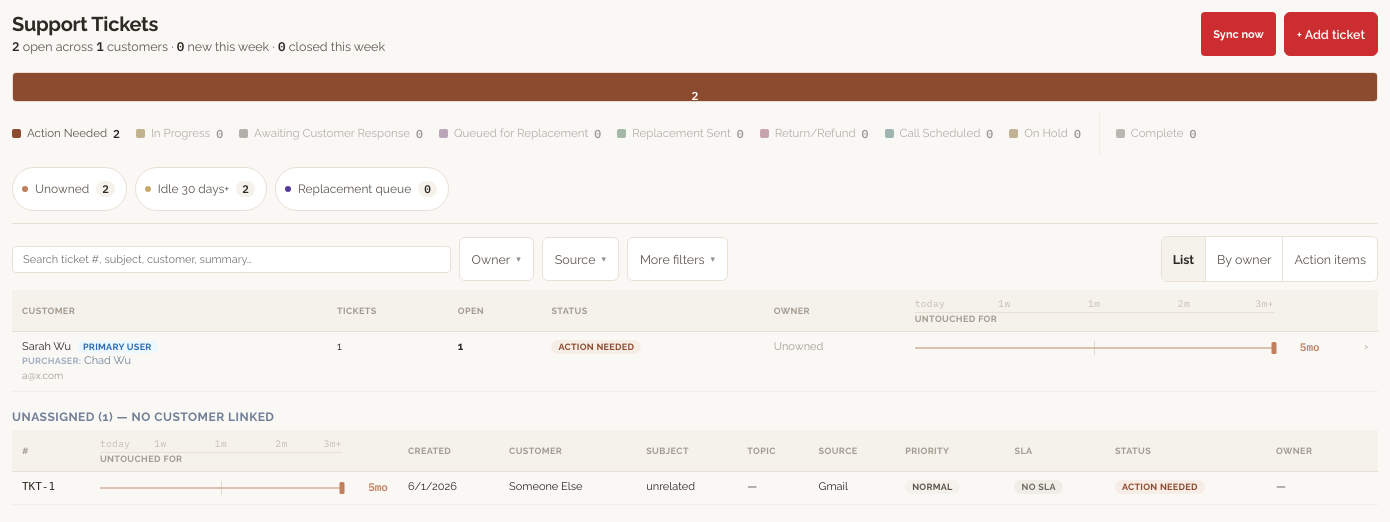
SupportTab — purchaser vs primary user › still finds the ticket when searching the purchaser
The width and height of the screenshot is (1390, 522).
In the field named "search tickets": [231, 259] box [12,246,451,272], type "Chad"
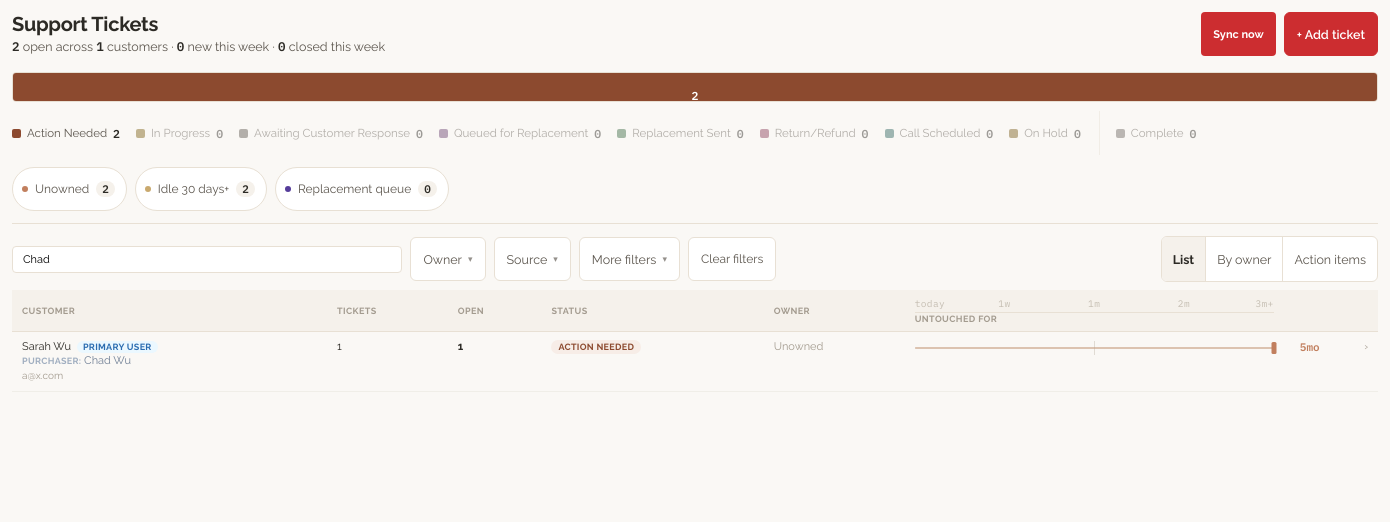
Expected: the text "Sarah Wu" is shown, [22,340,71,353]
Expected: the text "unrelated" is gone
